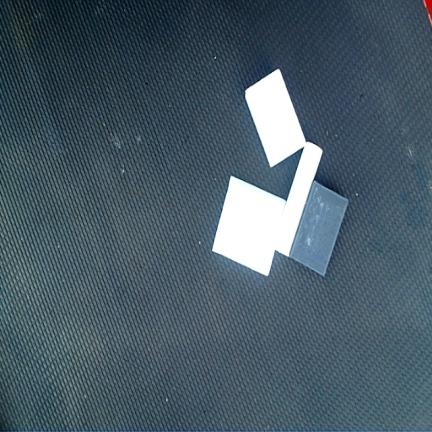Cilindro: (276, 141, 322, 258)
Paralelepipedo: (245, 68, 307, 169), (290, 181, 349, 277)
Piramide: (212, 176, 286, 278)
